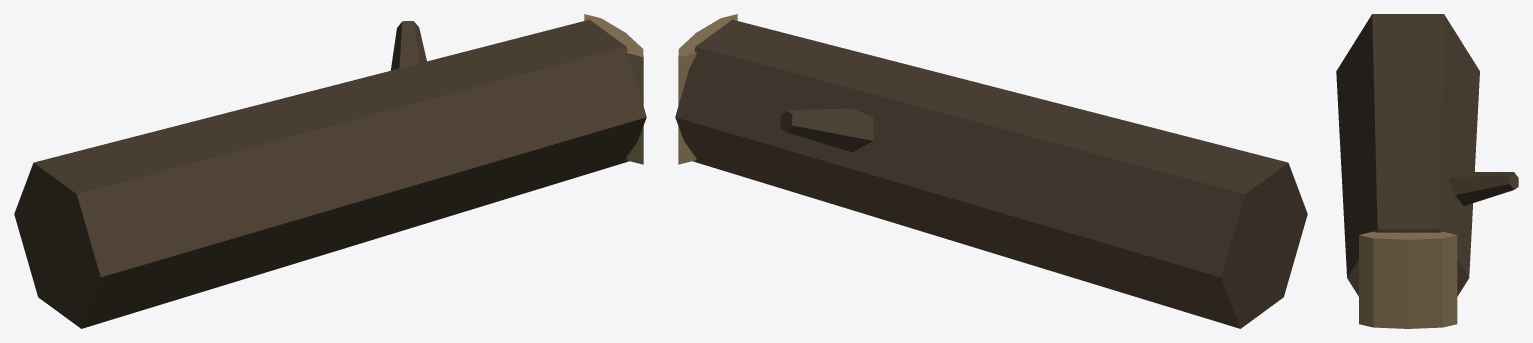
File: forest-log.glb
The picture shows the model from 3 angles, left to right: view 1: azimuth 30°, elevation 25°; view 2: azimuth 150°, elevation 25°; view 3: azimuth 270°, elevation 25°; orthographic projection. The views are drawn at different scales.
Visible parts, largest first — view 1: forest-log; view 2: forest-log; view 3: forest-log.
Boxes of the visible parts, left/top/right/bottom form: forest-log: left=14, top=14, right=646, bottom=328; forest-log: left=675, top=14, right=1307, bottom=328; forest-log: left=1336, top=14, right=1518, bottom=328.
Size of the model in its own units: 1.45 by 0.3546 by 0.4822.
